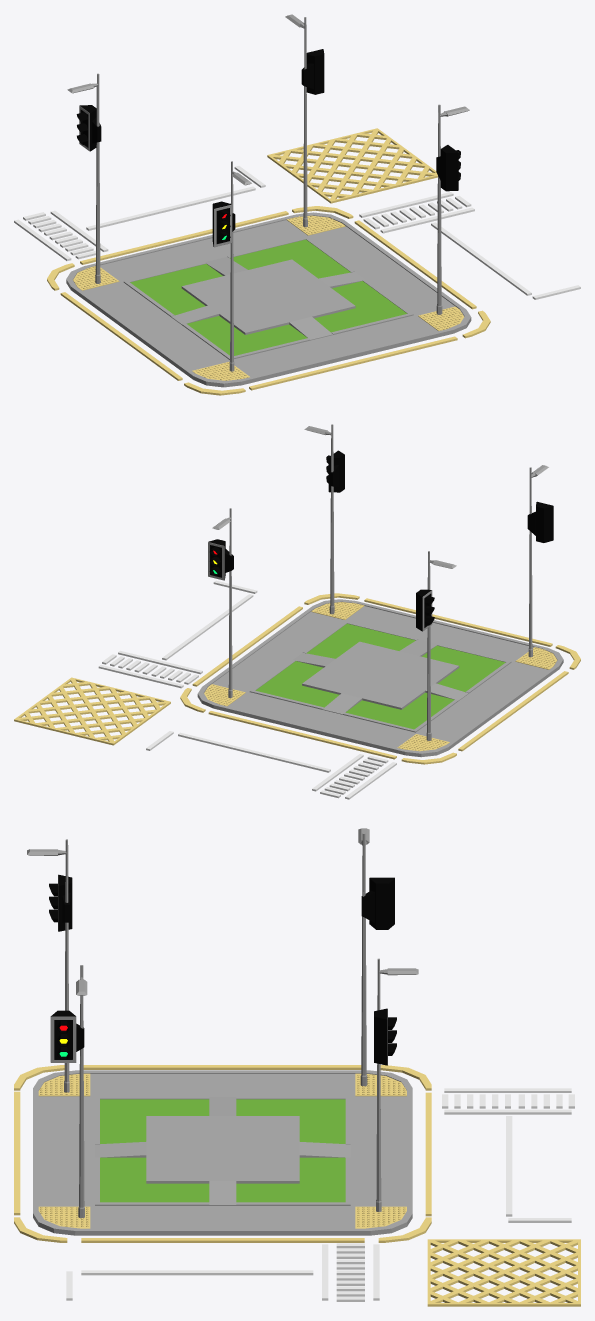
File: footpath_tile.fbx
The picture shows the model from 3 angles, top to bottom: view 1: azimuth 30°, elevation 25°; view 2: azimuth 150°, elevation 25°; view 3: azimuth 270°, elevation 25°; orthographic projection. The views are drawn at different scales.
Visible parts, largest first — view 1: Ground_tile_footpath; view 2: Ground_tile_footpath; view 3: Ground_tile_footpath.
Part boxes in pixels (x1,y1,x2,y2): Ground_tile_footpath: (14, 14, 580, 395); Ground_tile_footpath: (14, 424, 580, 799); Ground_tile_footpath: (14, 828, 580, 1306).
Size of the model in its own units: 442 by 221 by 443.
